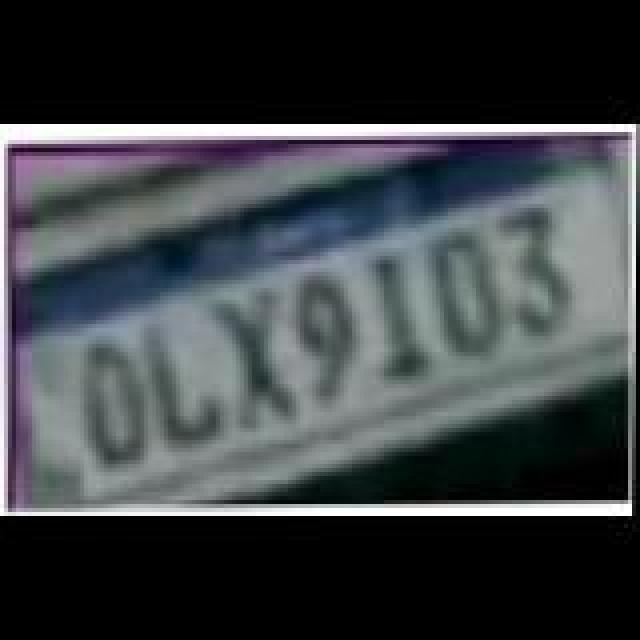3: (502, 210, 578, 342)
9: (290, 274, 366, 406)
D: (428, 232, 508, 360)
I: (368, 254, 432, 386)
L: (146, 326, 230, 450)
O: (82, 342, 158, 474)
X: (218, 292, 302, 428)
